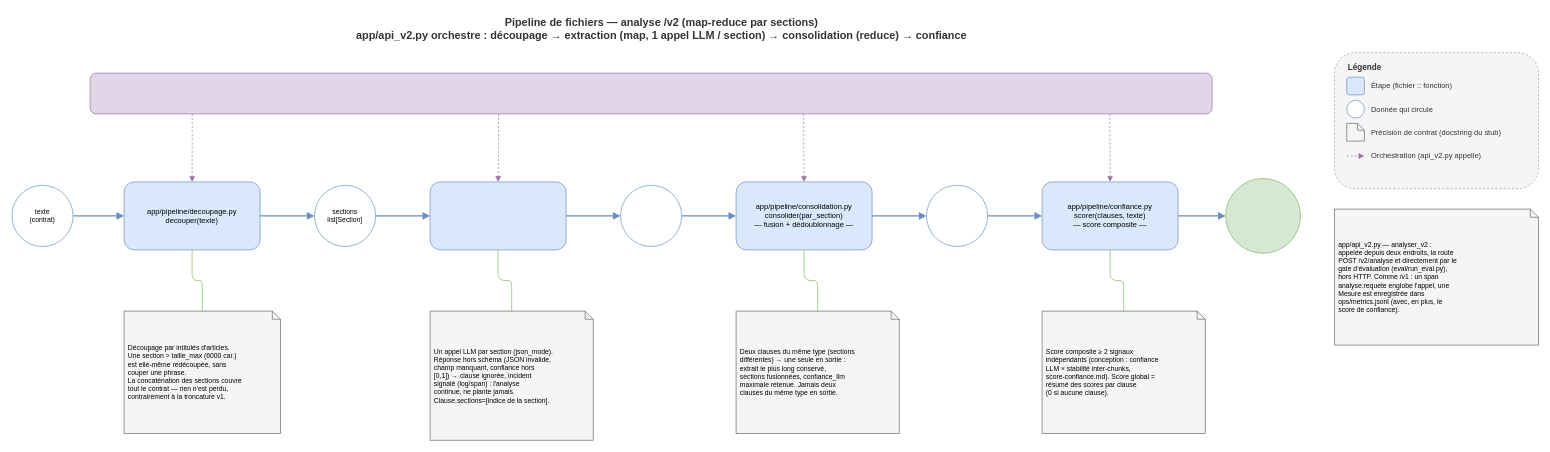
This 1550x452 diagram has some shape labels left out. Each missing label, with the centre of its shape:
app/api_v2.py :: analyser_v2(texte, client, telemetry): (650,93)
app/pipeline/extraction.py extraire(section, client) — ×N sections (map) —: (497,215)
clauses list[Clause]: (957,216)
par_section list[list[Clause]]: (651,216)
ReponseAnalyseV2 (clauses scorées + confiance_globale): (1262,215)
